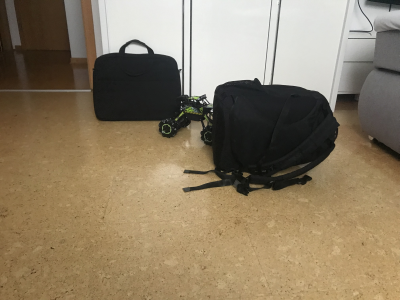remote control car: (157, 90, 221, 145)
